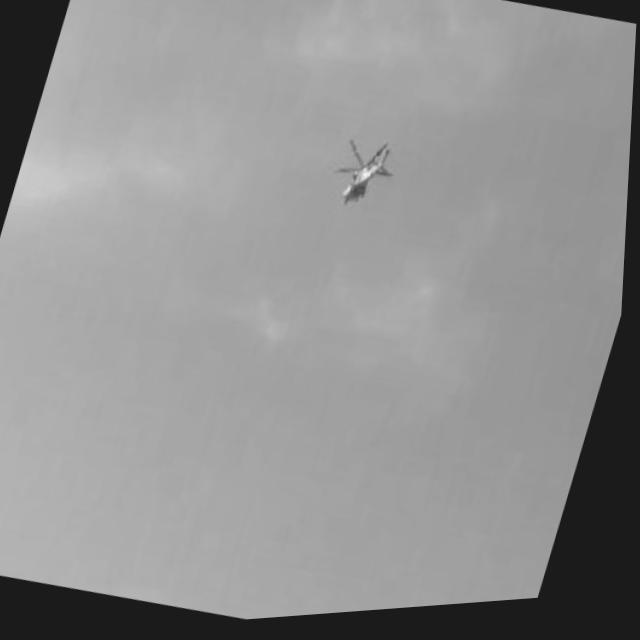helikopter: (328, 138, 405, 220)
